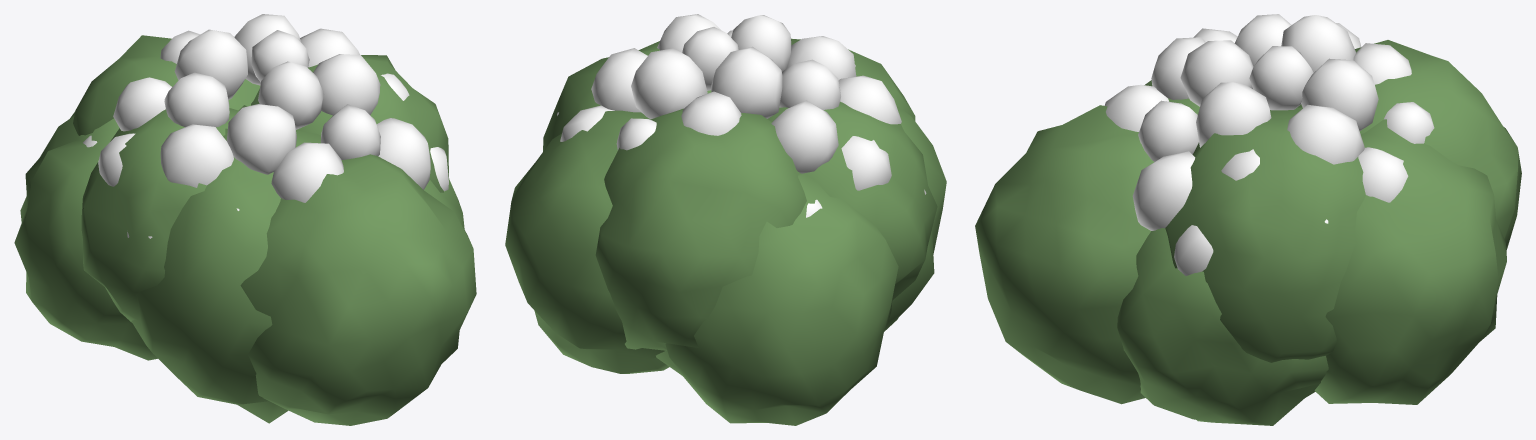
The model's file is shrub-hydrangea.glb.
The picture shows the model from 3 angles, left to right: view 1: azimuth 30°, elevation 25°; view 2: azimuth 150°, elevation 25°; view 3: azimuth 270°, elevation 25°; orthographic projection. The views are drawn at different scales.
Parts seen in each view (by area): view 1: Hydrangea foliage.002, Hydrangea foliage.007, Hydrangea foliage.001, Hydrangea foliage.004, Hydrangea foliage.006, Hydrangea foliage, Hydrangea flower head.007, Hydrangea flower head.012, Hydrangea flower head.001, Hydrangea flower head.005, Hydrangea flower head.002, Hydrangea flower head.015 (+11 smaller); view 2: Hydrangea foliage.001, Hydrangea foliage.006, Hydrangea foliage.003, Hydrangea foliage.004, Hydrangea flower head.003, Hydrangea flower head.001, Hydrangea flower head.009, Hydrangea foliage.007, Hydrangea flower head.004, Hydrangea flower head.008, Hydrangea foliage, Hydrangea flower head.002 (+9 smaller); view 3: Hydrangea foliage.002, Hydrangea foliage.003, Hydrangea foliage, Hydrangea foliage.005, Hydrangea foliage.006, Hydrangea flower head.003, Hydrangea flower head.018, Hydrangea flower head.008, Hydrangea flower head.005, Hydrangea flower head.002, Hydrangea flower head, Hydrangea flower head.010 (+9 smaller).
Part boxes in pixels (box(x1,y1,x2,y2)): Hydrangea foliage.002: box(240, 154, 476, 425); Hydrangea foliage.007: box(131, 105, 320, 423); Hydrangea foliage.001: box(14, 116, 157, 360); Hydrangea foliage.004: box(81, 108, 238, 322); Hydrangea foliage.006: box(70, 35, 260, 135); Hydrangea foliage: box(251, 55, 448, 192); Hydrangea flower head.007: box(226, 104, 296, 174); Hydrangea flower head.012: box(160, 124, 233, 187); Hydrangea flower head.001: box(174, 29, 247, 99); Hydrangea flower head.005: box(313, 54, 380, 115); Hydrangea flower head.002: box(258, 61, 324, 129); Hydrangea flower head.015: box(271, 142, 343, 202); Hydrangea foliage.001: box(656, 173, 898, 425); Hydrangea foliage.006: box(595, 108, 806, 350); Hydrangea foliage.003: box(505, 110, 669, 373); Hydrangea foliage.004: box(767, 101, 937, 300); Hydrangea flower head.003: box(631, 48, 707, 119); Hydrangea flower head.001: box(711, 46, 782, 118); Hydrangea flower head.009: box(771, 100, 838, 173); Hydrangea foliage.007: box(884, 105, 946, 331); Hydrangea flower head.004: box(779, 59, 840, 109); Hydrangea flower head.008: box(591, 48, 647, 112); Hydrangea foliage: box(543, 41, 711, 151); Hydrangea flower head.002: box(731, 15, 791, 71); Hydrangea foliage.002: box(975, 105, 1153, 404); Hydrangea foliage.003: box(1314, 119, 1506, 404); Hydrangea foliage: box(1165, 107, 1365, 362); Hydrangea foliage.005: box(1117, 228, 1328, 425); Hydrangea foliage.006: box(1297, 40, 1521, 250); Hydrangea flower head.003: box(1301, 58, 1378, 130); Hydrangea flower head.018: box(1132, 151, 1195, 230); Hydrangea flower head.008: box(1287, 104, 1364, 164); Hydrangea flower head.005: box(1196, 82, 1271, 147); Hydrangea flower head.002: box(1180, 40, 1253, 106); Hydrangea flower head: box(1249, 46, 1313, 110); Hydrangea flower head.010: box(1138, 100, 1198, 161).
Size of the model in its own units: 1.23 by 1.1 by 1.49.
